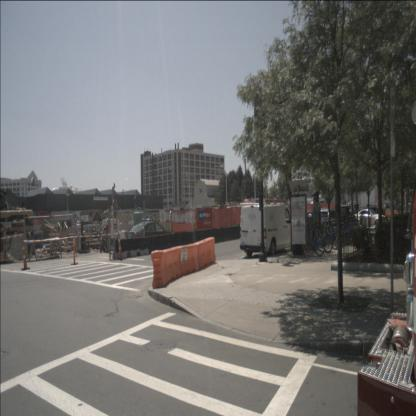barrier: (151, 246, 182, 289), (112, 236, 150, 260), (180, 243, 200, 276), (198, 237, 218, 269), (146, 233, 174, 255), (173, 230, 199, 252), (197, 228, 220, 248), (219, 224, 241, 242), (386, 210, 392, 218), (392, 210, 398, 218)
